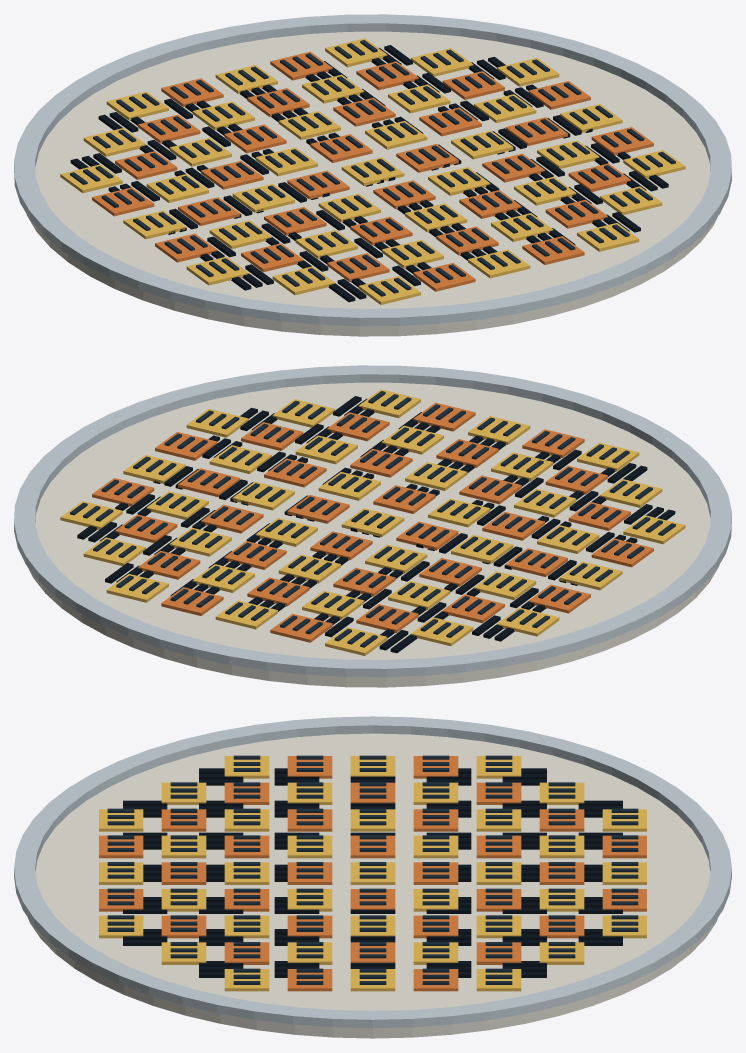
Rendered from 04_L76_PatternedDielectricTrenchWafer.fbx.
The picture shows the model from 3 angles, top to bottom: view 1: azimuth 30°, elevation 25°; view 2: azimuth 150°, elevation 25°; view 3: azimuth 270°, elevation 25°; orthographic projection.
Parts seen in each view (by area): view 1: PatternedDielectricTrenchWafer; view 2: PatternedDielectricTrenchWafer; view 3: PatternedDielectricTrenchWafer.
Part boxes in pixels (x1,y1,x2,y2): PatternedDielectricTrenchWafer: (14, 14, 731, 336); PatternedDielectricTrenchWafer: (14, 365, 731, 687); PatternedDielectricTrenchWafer: (14, 716, 731, 1038).
Bounding box in the file's own units: 194 × 6.45 × 194.
